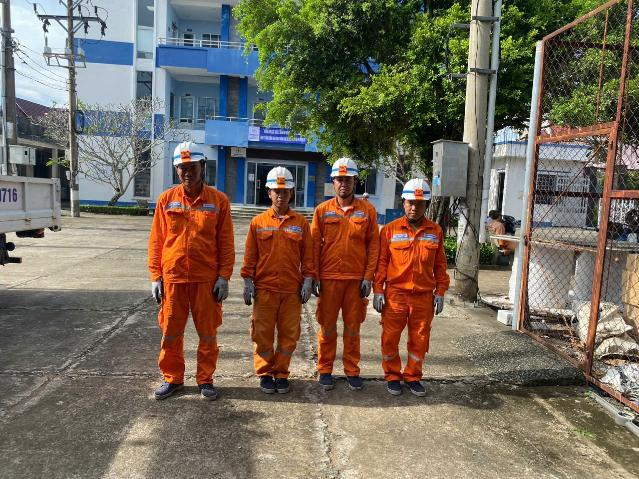gloves: (302, 269, 327, 302), (143, 278, 172, 304), (423, 288, 447, 319), (363, 284, 387, 314), (294, 276, 317, 306), (353, 272, 373, 304), (240, 273, 258, 307), (211, 275, 230, 304)
helmet: (168, 137, 213, 169), (321, 152, 357, 184), (402, 173, 435, 203), (261, 167, 299, 193)
shoes: (194, 365, 222, 404), (400, 375, 428, 402), (154, 381, 185, 403), (340, 368, 366, 393), (274, 367, 293, 397), (312, 369, 335, 392), (254, 370, 274, 396), (385, 371, 403, 399)
